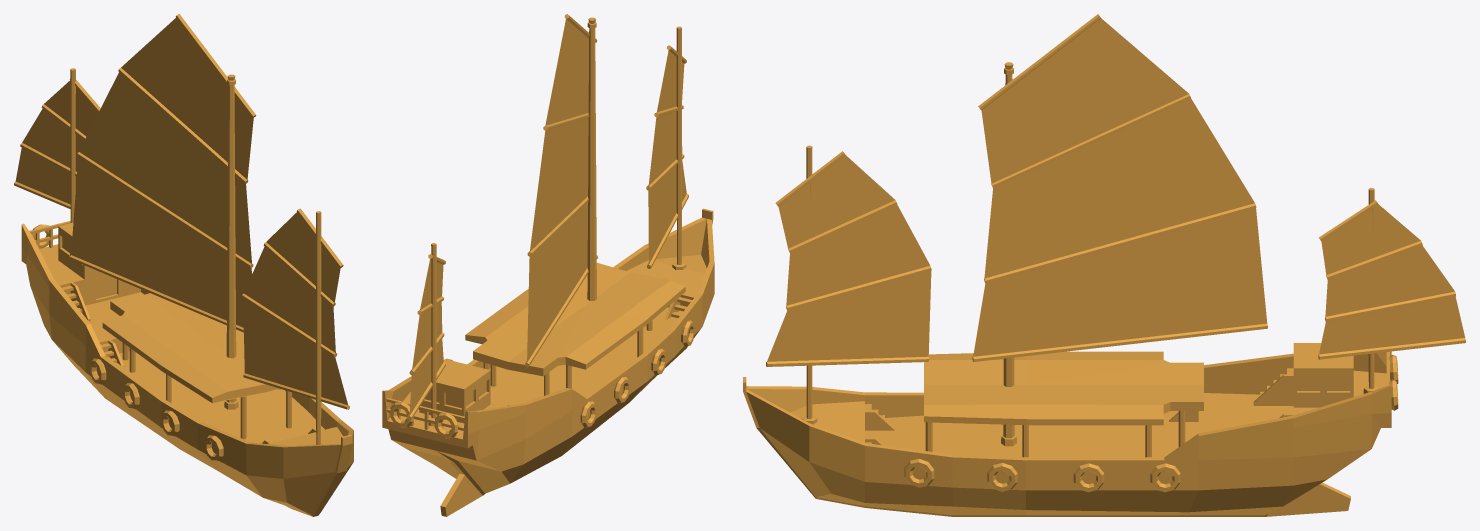
Rendered from boat-china.fbx.
The picture shows the model from 3 angles, left to right: view 1: azimuth 30°, elevation 25°; view 2: azimuth 150°, elevation 25°; view 3: azimuth 270°, elevation 25°; orthographic projection. The views are drawn at different scales.
Visible parts, largest first — view 1: boat-china; view 2: boat-china; view 3: boat-china.
Part boxes in pixels (<box>): boat-china: <box>14,14,353,516</box>; boat-china: <box>382,14,714,516</box>; boat-china: <box>743,14,1465,516</box>.
Bounding box in the file's own units: 5.37 × 16.38 × 21.73.
